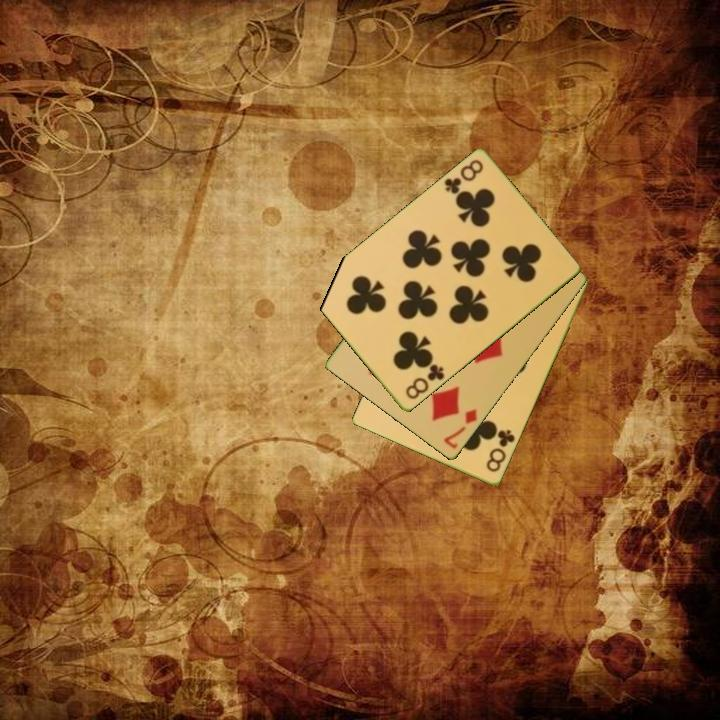7d: (440, 405, 480, 452)
8c: (402, 361, 448, 403), (440, 156, 486, 198), (483, 426, 518, 475)
